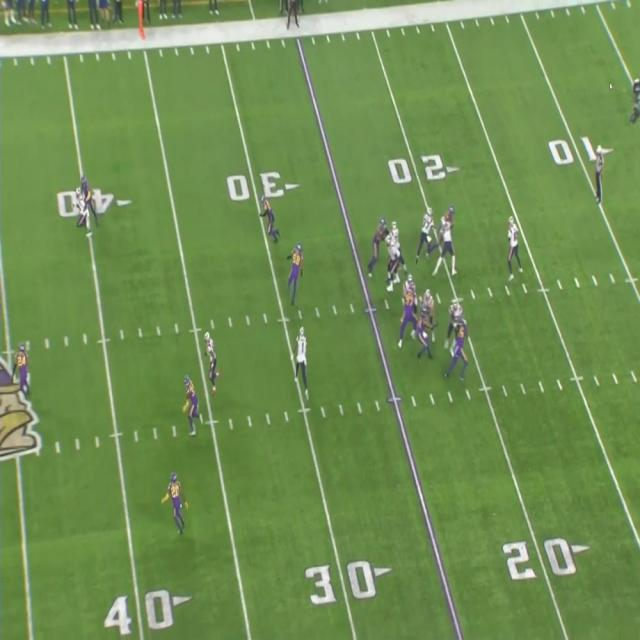db: (169, 473, 187, 535), (79, 174, 96, 228), (184, 376, 198, 438), (16, 348, 28, 407), (263, 196, 276, 242)
lb: (292, 247, 304, 309)
qb: (505, 215, 521, 273)
skill: (423, 208, 437, 260), (204, 327, 216, 386), (76, 188, 90, 232), (300, 328, 310, 382)
